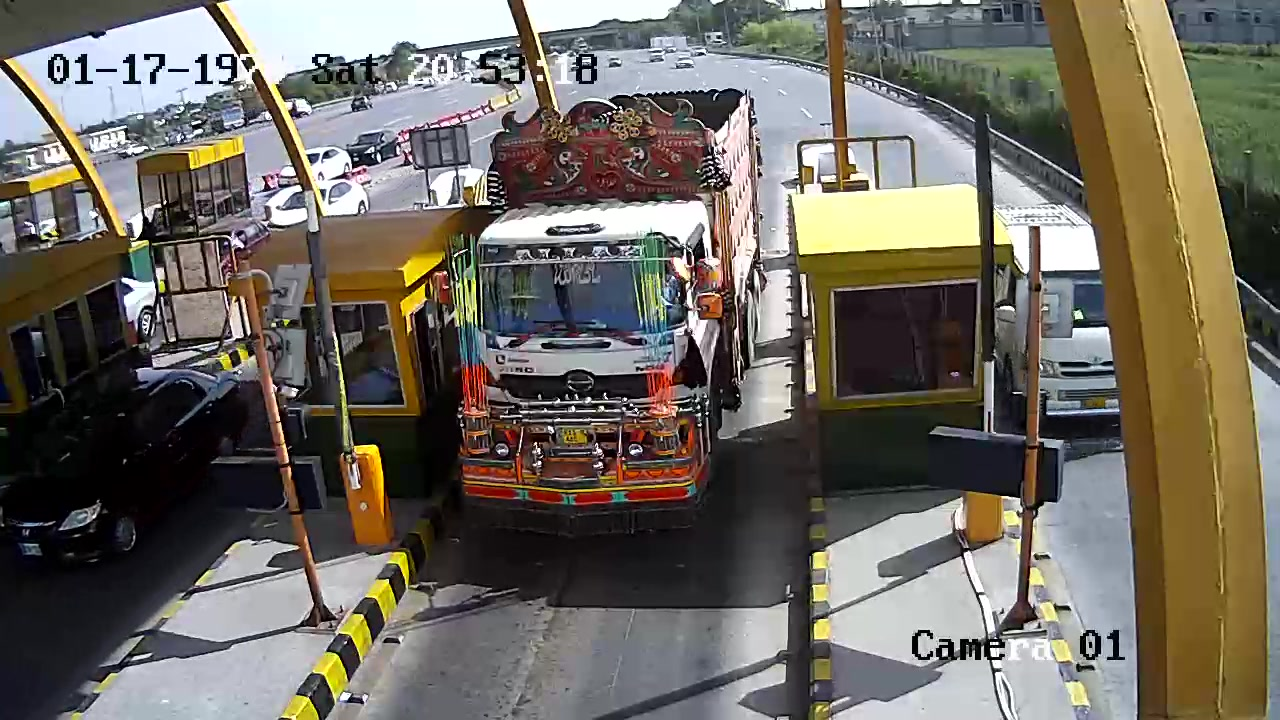F5: (440, 66, 769, 529)
